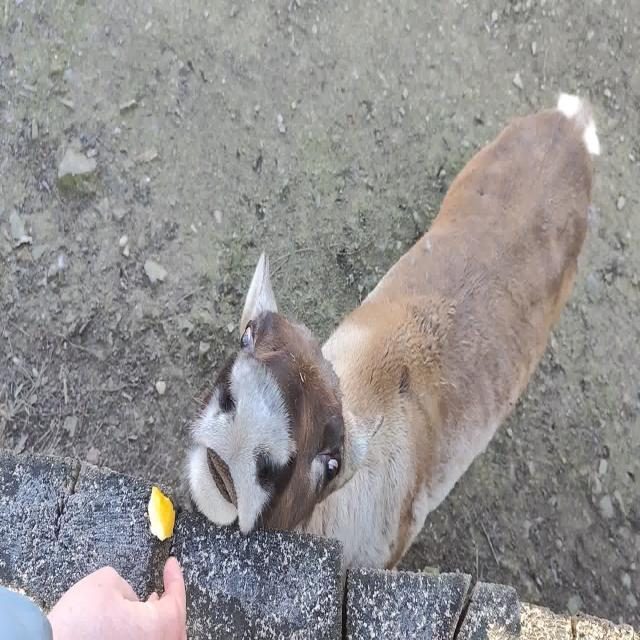deer: (189, 92, 600, 569)
